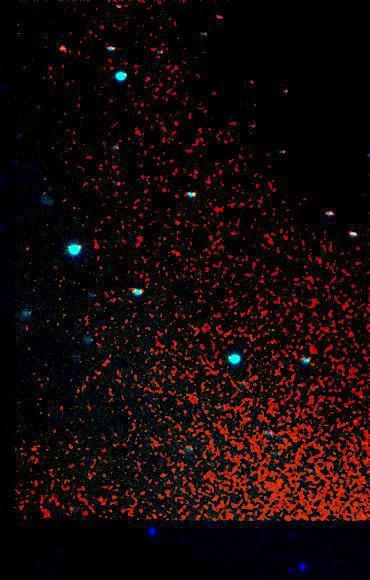star: (46, 30, 76, 60)
